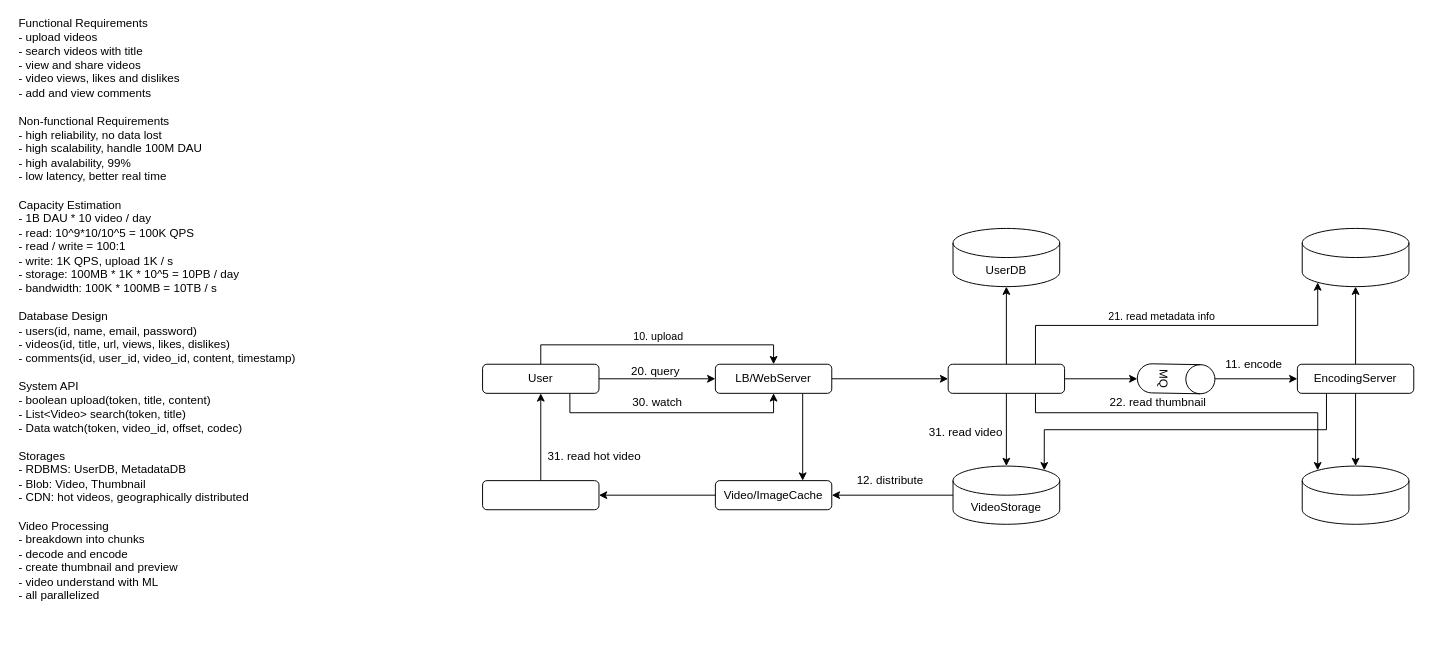
Image size: 1431x647. Some labels were removed from this diagram. Each missing label, with the box of its shape:
ApplicationServer: (947, 363, 1065, 393)
CDN: (482, 480, 599, 510)
MetadataDB: (1301, 227, 1409, 287)
ThumbnailStorage: (1301, 465, 1409, 524)
